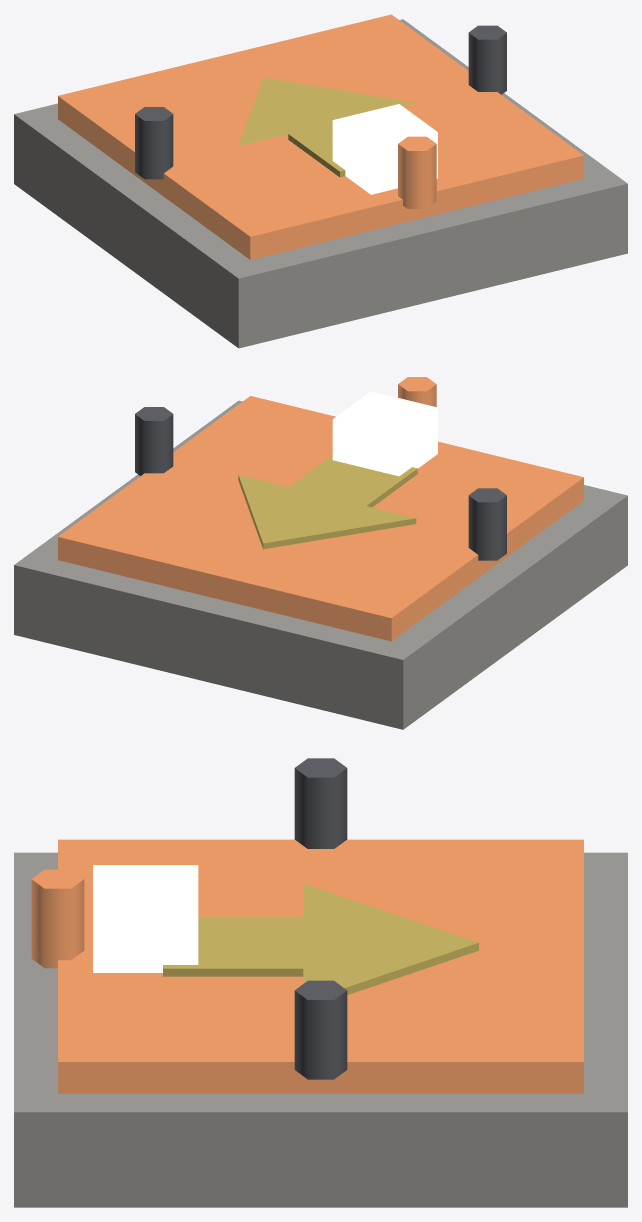
The model's file is build_gate_counter.glb.
3 views of the same model, one above another, from view 1: azimuth 30°, elevation 25°; view 2: azimuth 150°, elevation 25°; view 3: azimuth 270°, elevation 25° (orthographic). The views are drawn at different scales.
Parts seen in each view (by area): view 1: Baked; view 2: Baked; view 3: Baked.
Part boxes in pixels (bbox=[...]): Baked: bbox=[14, 14, 627, 348]; Baked: bbox=[14, 377, 627, 729]; Baked: bbox=[14, 758, 627, 1207].
Size of the model in its own units: 0.7 by 0.25 by 0.7.
